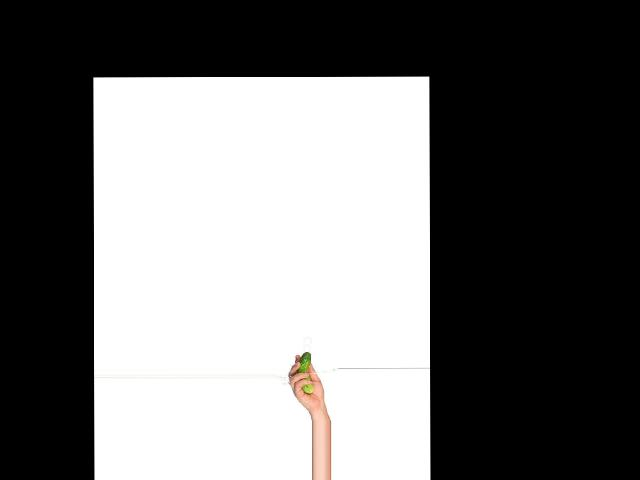cucumber: (297, 351, 312, 393)
